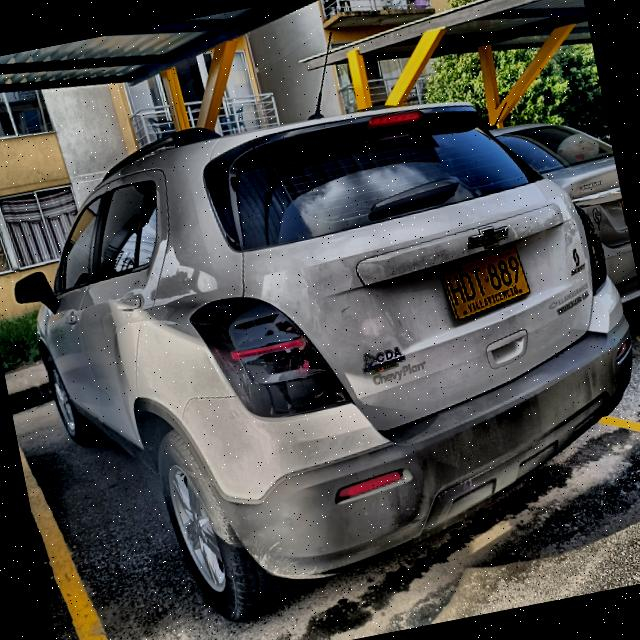plate: (441, 246, 531, 321)
